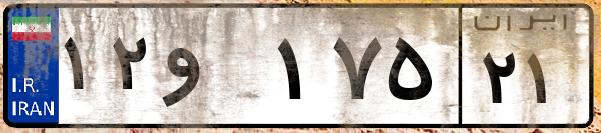1: (270, 28, 330, 110), (57, 26, 110, 100), (525, 38, 570, 115)
2: (475, 38, 525, 113), (110, 28, 158, 98)
5: (385, 28, 445, 110)
7: (330, 28, 385, 110)
و: (158, 20, 270, 120)
